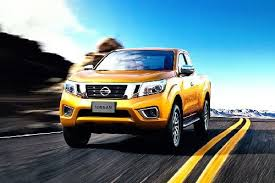Nissan: (60, 49, 207, 146)
